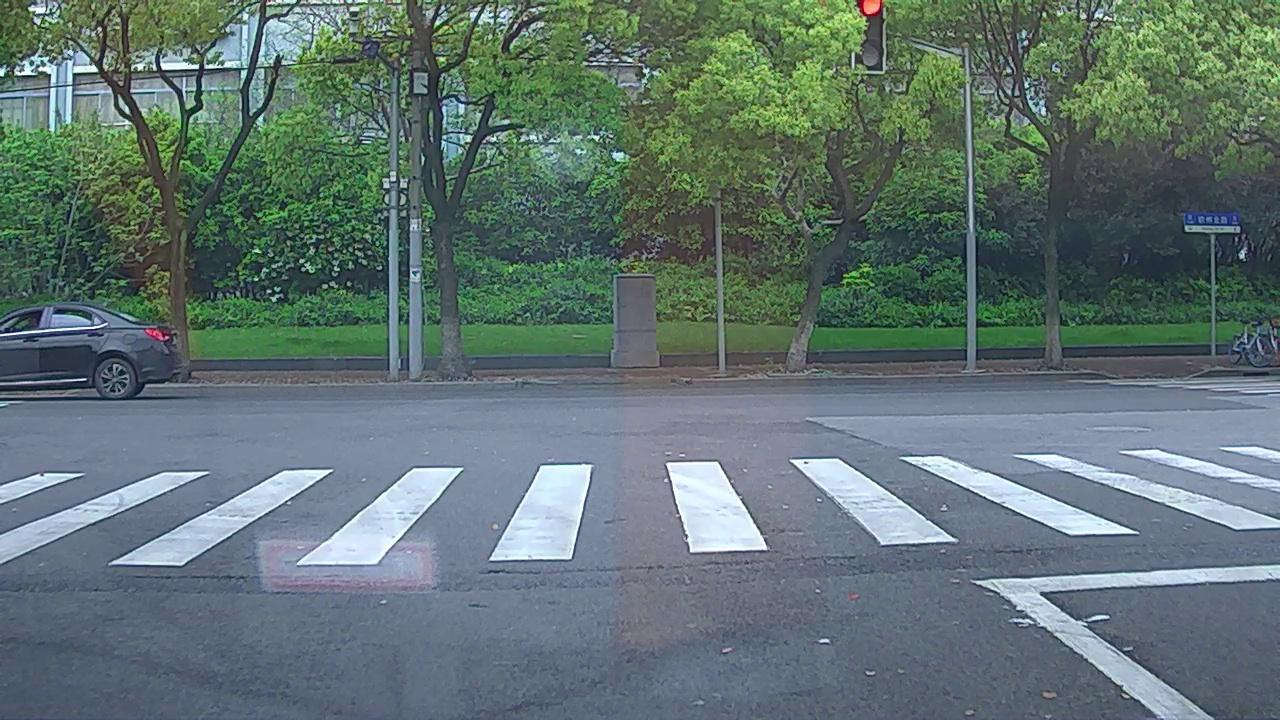traffic_light: (853, 1, 883, 67)
